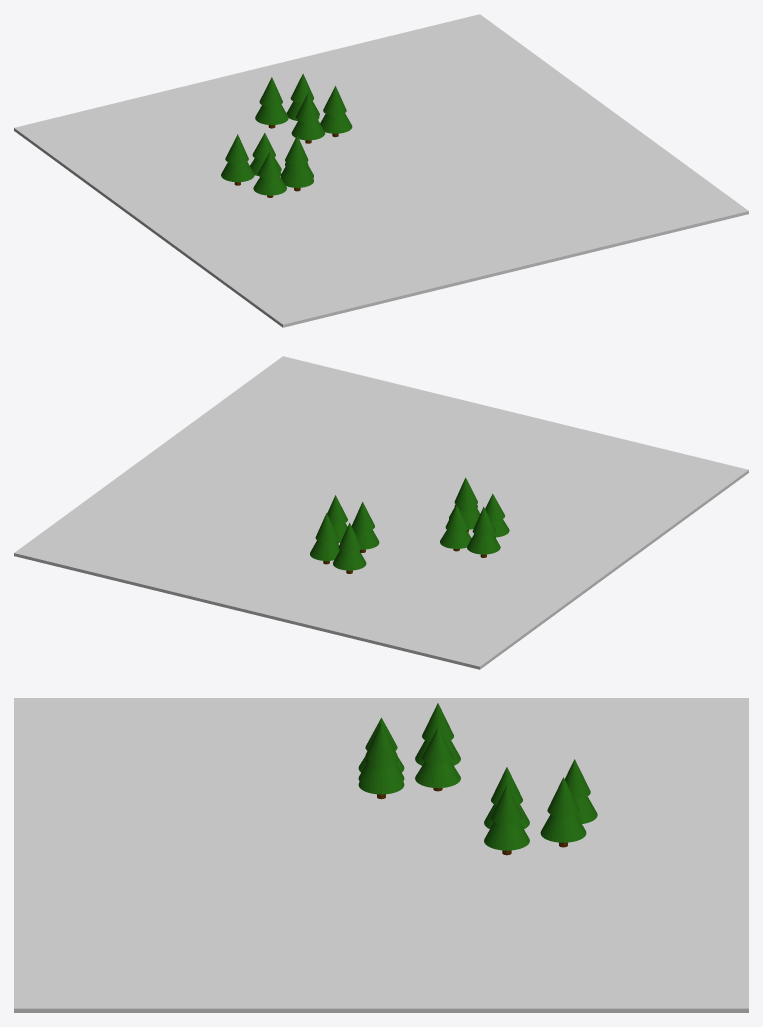
File: grass.glb
The picture shows the model from 3 angles, top to bottom: view 1: azimuth 30°, elevation 25°; view 2: azimuth 150°, elevation 25°; view 3: azimuth 270°, elevation 25°; orthographic projection. The views are drawn at different scales.
Parts seen in each view (by area): view 1: Grass, Tree.006, Tree.007, Tree.005, Tree.001, Tree.004, Tree.003, Tree.008, Tree.009; view 2: Grass, Tree.006, Tree.007, Tree.008, Tree.009, Tree.005, Tree.003, Tree.004, Tree.001; view 3: Grass, Tree.001, Tree.008, Tree.009, Tree.003, Tree.006, Tree.007, Tree.005, Tree.
Boxes of the visible parts, left/top/right/bottom form: Grass: left=14, top=14, right=748, bottom=327; Tree.006: left=255, top=77, right=288, bottom=128; Tree.007: left=221, top=134, right=254, bottom=185; Tree.005: left=291, top=92, right=325, bottom=143; Tree.001: left=320, top=86, right=352, bottom=137; Tree.004: left=253, top=151, right=286, bottom=197; Tree.003: left=280, top=135, right=313, bottom=183; Tree.008: left=286, top=73, right=319, bottom=120; Tree.009: left=250, top=133, right=281, bottom=175; Grass: left=14, top=356, right=748, bottom=669; Tree.006: left=333, top=522, right=366, bottom=573; Tree.007: left=467, top=506, right=500, bottom=557; Tree.008: left=310, top=513, right=339, bottom=564; Tree.009: left=440, top=505, right=471, bottom=551; Tree.005: left=351, top=501, right=379, bottom=552; Tree.003: left=449, top=477, right=480, bottom=525; Tree.004: left=485, top=493, right=509, bottom=537; Tree.001: left=327, top=495, right=347, bottom=543; Grass: left=14, top=698, right=748, bottom=1012; Tree.001: left=484, top=785, right=529, bottom=855; Tree.008: left=540, top=777, right=586, bottom=847; Tree.009: left=415, top=728, right=460, bottom=791; Tree.003: left=358, top=722, right=404, bottom=788; Tree.006: left=564, top=759, right=597, bottom=823; Tree.007: left=415, top=703, right=460, bottom=765; Tree.005: left=484, top=767, right=529, bottom=828; Tree: left=358, top=759, right=404, bottom=799.
Size of what is drawn, in the model's own units: 32 by 3.8 by 32.
